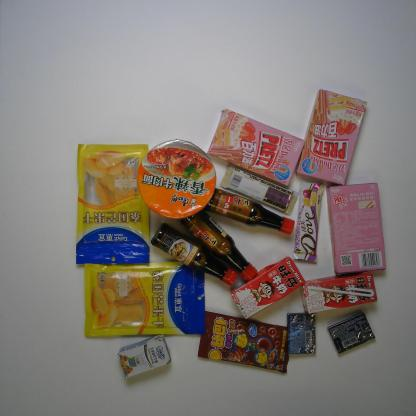Candy: (197, 310, 290, 373)
Chocolate: (219, 163, 300, 216), (292, 181, 324, 263)
Dessert: (206, 107, 307, 187), (294, 88, 368, 186), (324, 182, 387, 276)
Dried Fruit: (83, 260, 207, 338), (75, 143, 152, 266)
Gum: (327, 312, 376, 354), (286, 312, 316, 355)
Instant Noodles: (136, 138, 217, 220)
Milk: (229, 255, 307, 320), (300, 270, 378, 314), (117, 334, 172, 380)
Seasoner: (180, 208, 259, 283), (150, 222, 239, 288), (205, 186, 296, 235)
